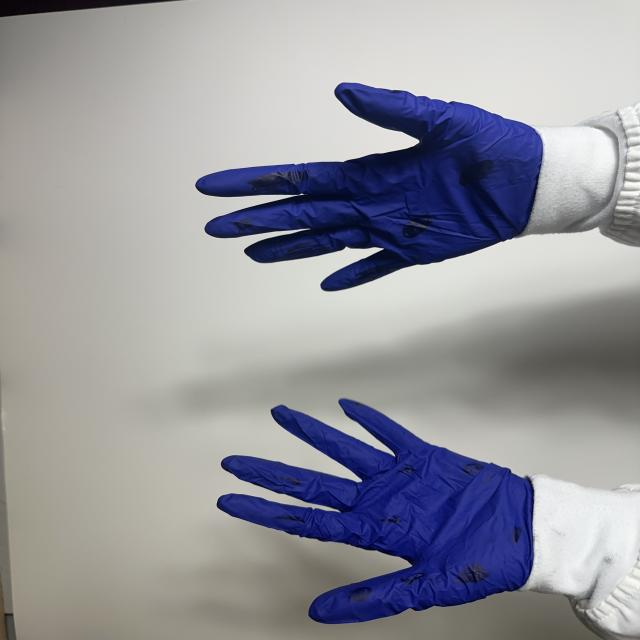gloves_contaminated: (196, 83, 543, 291), (217, 399, 534, 624)
